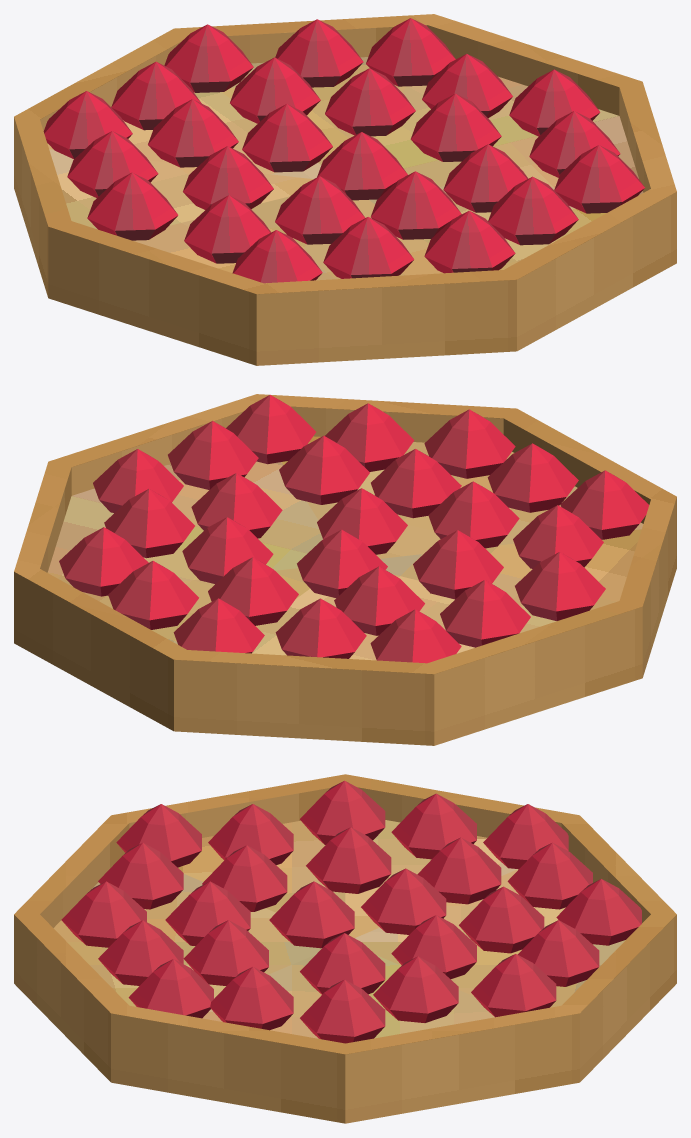
File: strawberry_pie-optimized.glb
3 views of the same model, one above another, from view 1: azimuth 30°, elevation 25°; view 2: azimuth 150°, elevation 25°; view 3: azimuth 270°, elevation 25° (orthographic). The views are drawn at different scales.
Visible parts, largest first — view 1: sphere (×26), circle; view 2: sphere (×26), circle; view 3: circle, sphere (×26).
Boxes of the visible parts, <box> form: sphere (×26): <box>43,18,644,283</box>; circle: <box>14,14,676,365</box>; sphere (×26): <box>59,395,649,663</box>; circle: <box>14,394,676,745</box>; circle: <box>14,774,676,1123</box>; sphere (×26): <box>61,780,641,1043</box>.
Size of the model in its own units: 0.678 by 0.1154 by 0.678.
Materials: 1 (1 with a texture image).
